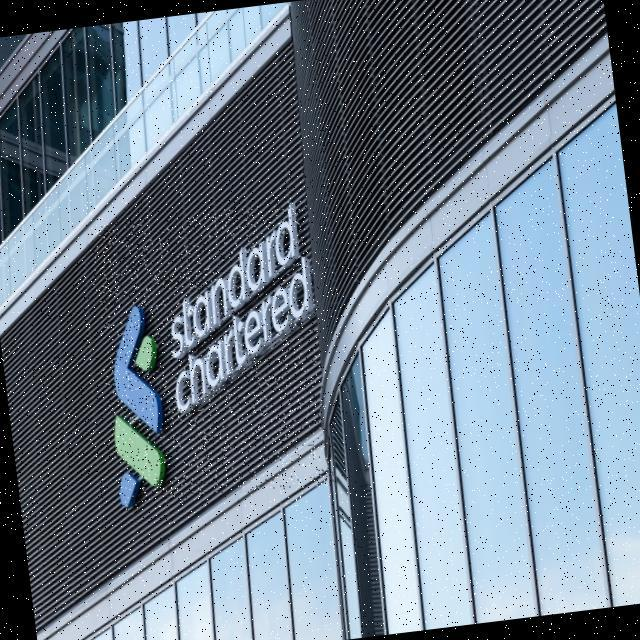Standard Chartered: (86, 199, 336, 511)
